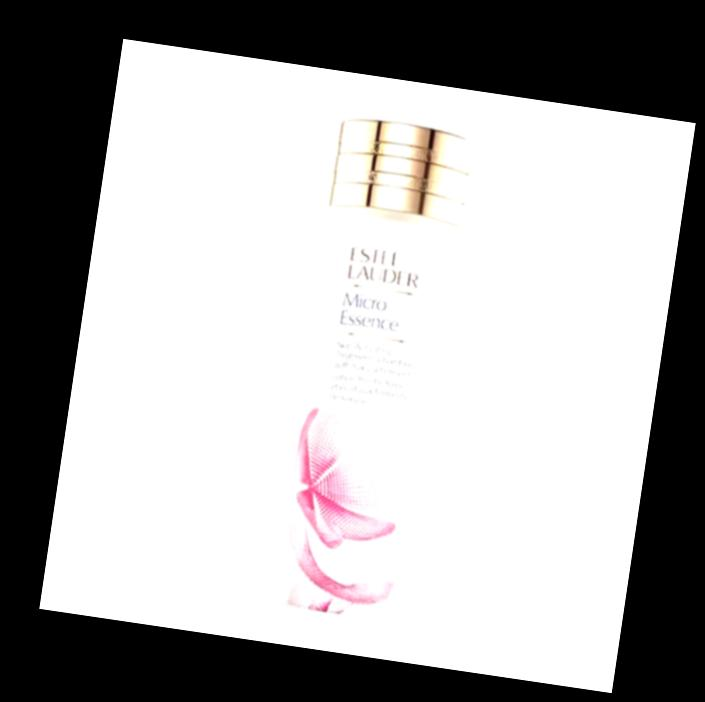cosmetic: (276, 119, 471, 623)
